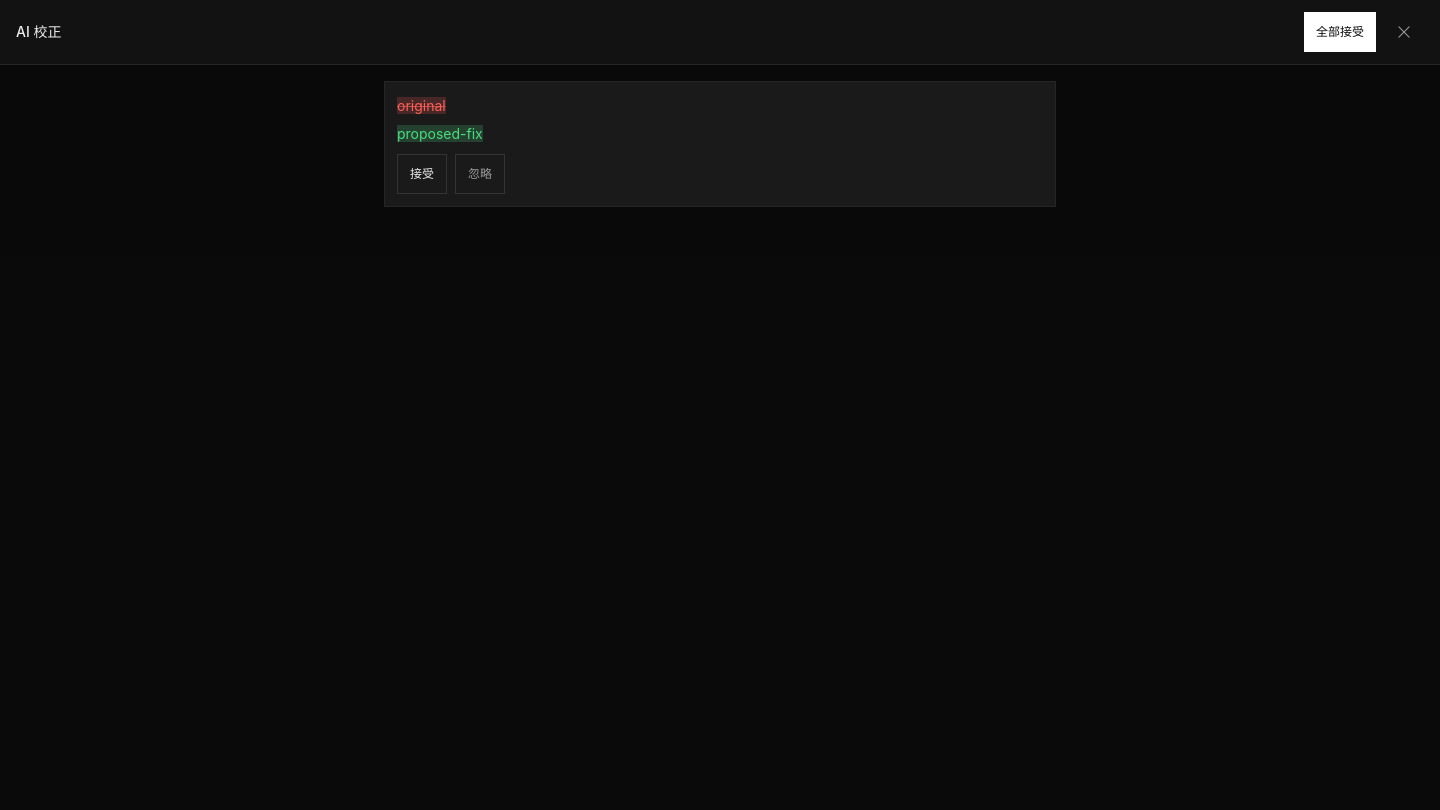
Test: CorrectionReview › acceptance is refused with a 内容已变化 marker when the segment's text no longer matches the review snapshot
The image size is (1440, 810).
Step 1. Click the button with test id "correction-accept-s1" → {"x": 422, "y": 174}, box x1=397 y1=154 x2=447 y2=194
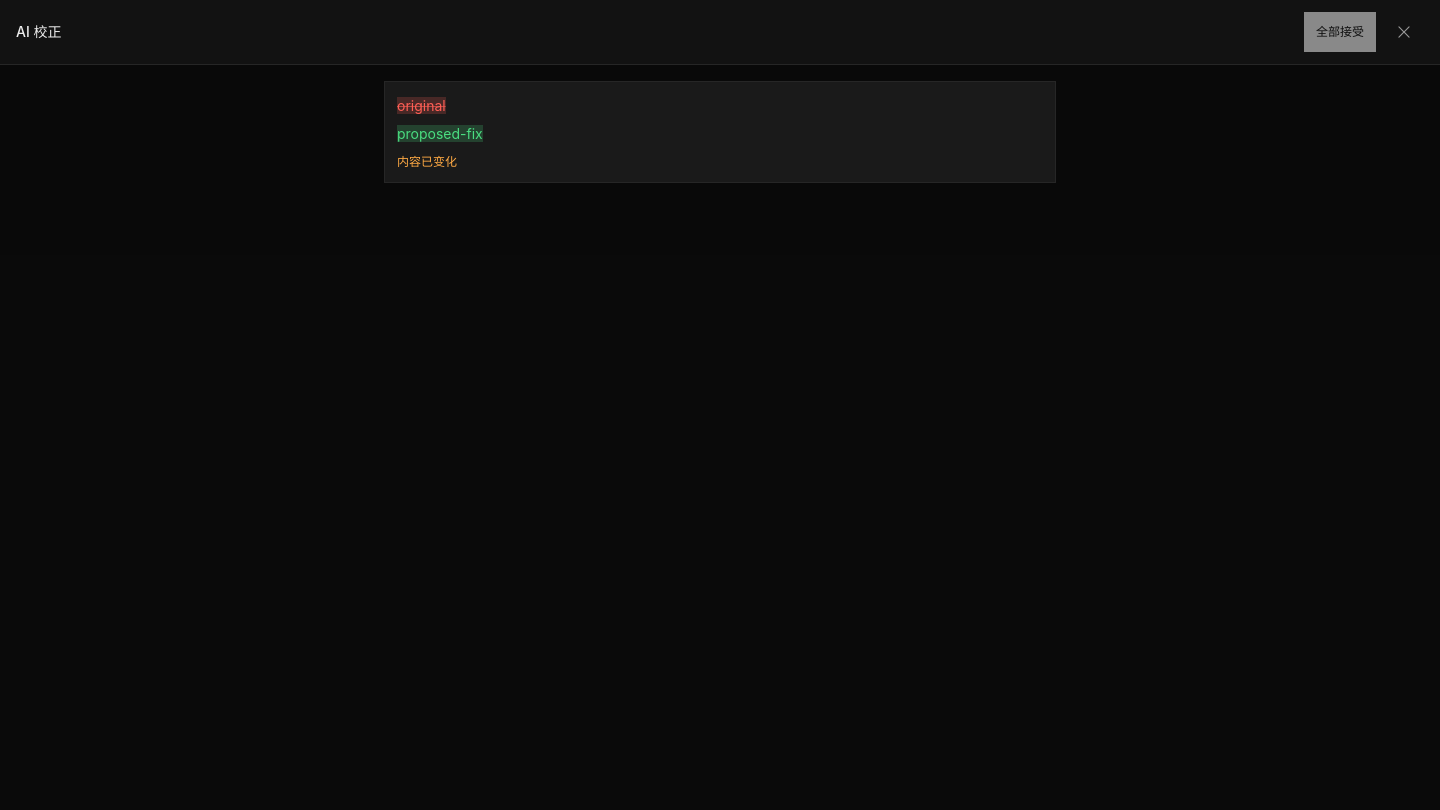
Result: the element with test id "correction-row-s1" shows "内容已变化" at x1=397 y1=154 x2=457 y2=169
